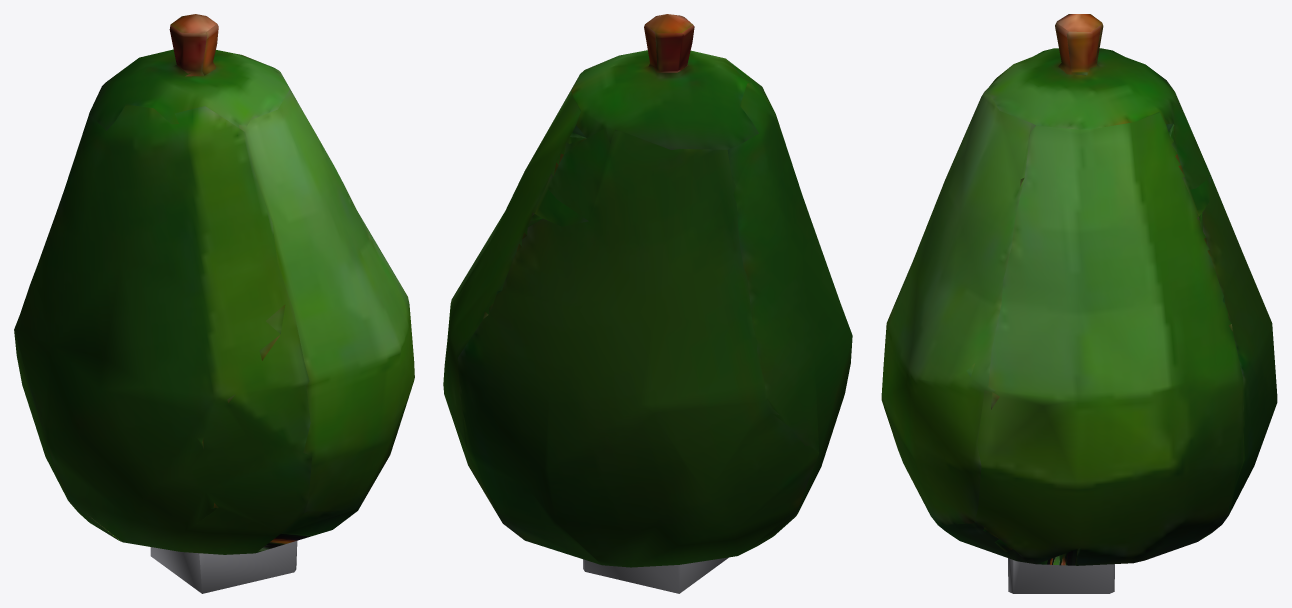
The model's file is avocado_baja.glb.
3 renders of one model, left to right at view 1: azimuth 30°, elevation 25°; view 2: azimuth 150°, elevation 25°; view 3: azimuth 270°, elevation 25°, orthographic. The views are drawn at different scales.
Visible parts, largest first — view 1: avocado; view 2: avocado; view 3: avocado.
Boxes of the visible parts, left/top/right/bottom form: avocado: left=14, top=14, right=414, bottom=593; avocado: left=443, top=14, right=852, bottom=593; avocado: left=881, top=14, right=1277, bottom=593.
Size of the model in its own units: 1.27 by 1.99 by 1.31.
2 materials, 1 textured.
